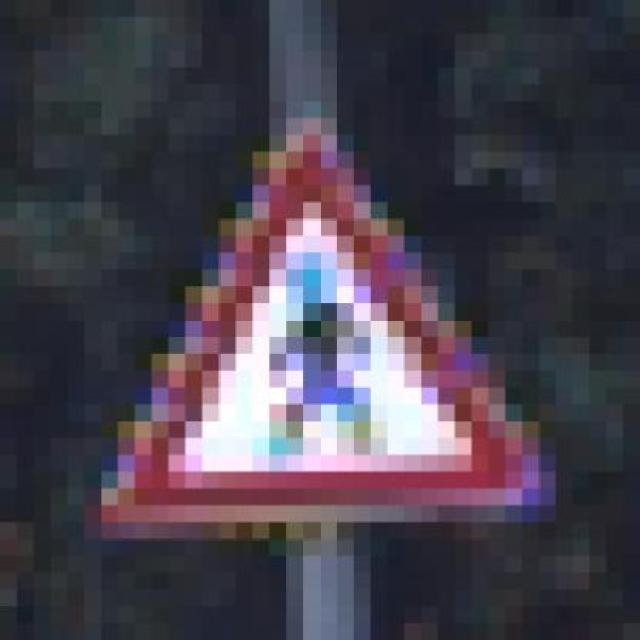Pedestrian Crossing: (84, 101, 556, 539)
